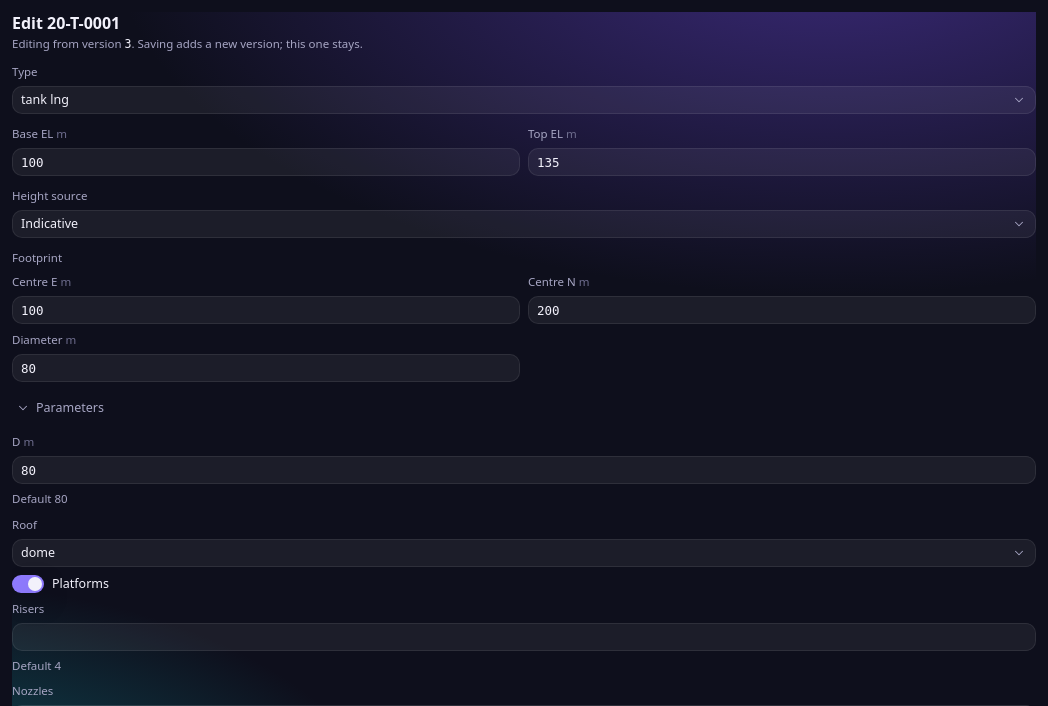
Test: ItemEditor › picking drawing first does not get round the hand-typed EL rule
Select "From the drawing" in the dropdown labelled "Height source" at (524, 224), box [12,210,1036,238]
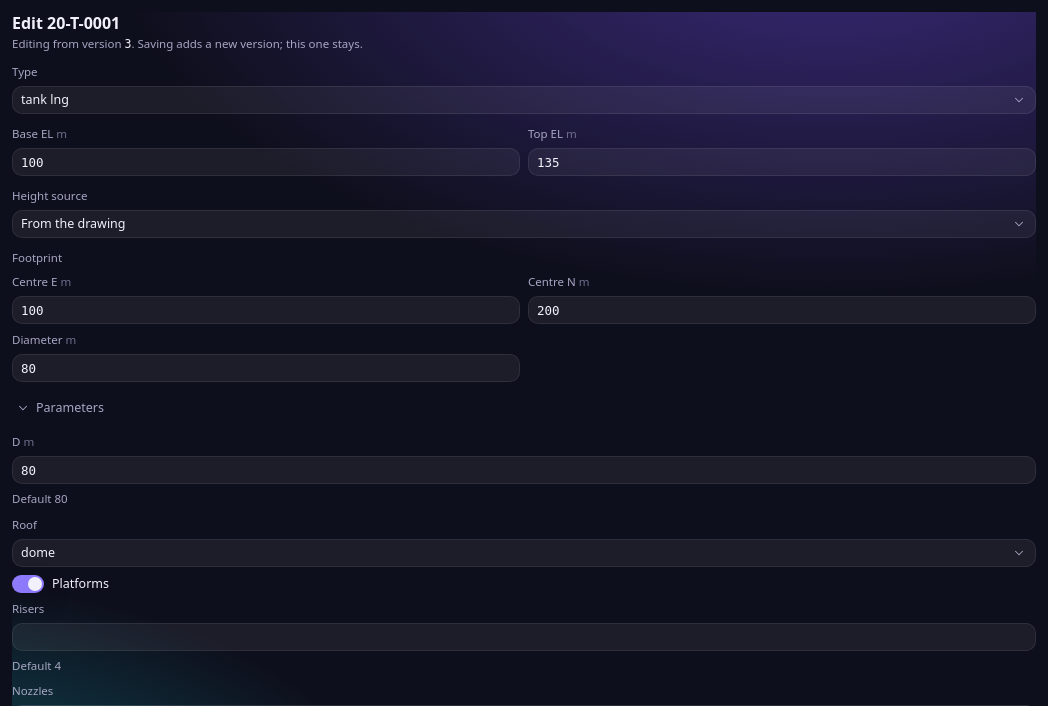
Expected: the text "Set by hand. The scan check will keep it." is not shown
Replace the text in the number field labelled "Top EL m" with "140" at (782, 162), box [528,148,1036,176]
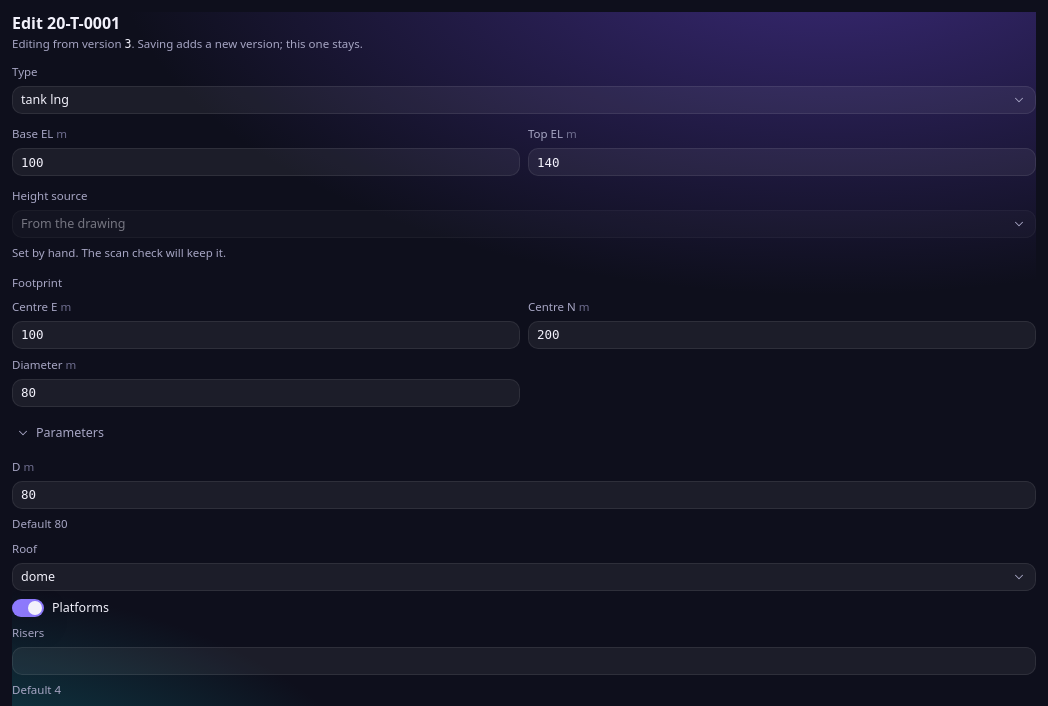
Expected: the dropdown labelled "Height source" is disabled, [12,210,1036,238]
Expected: the text "Set by hand. The scan check will keep it." is shown, [12,245,226,260]
